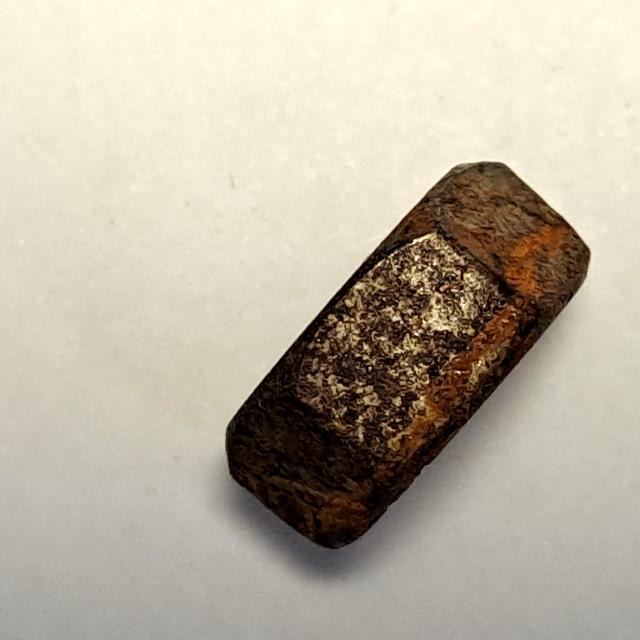Side_Rust: (216, 139, 609, 572)
